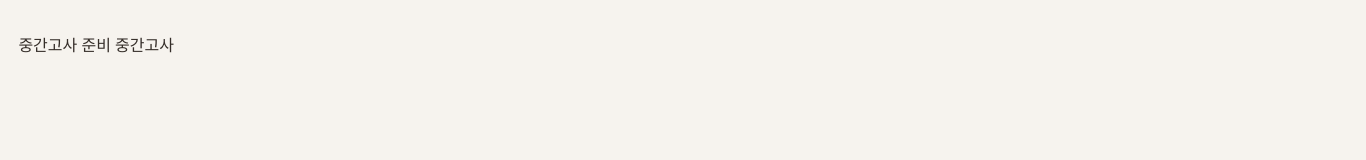
Test: secure document preview › finds and moves between matches in document text
The image size is (1366, 160).
Press f
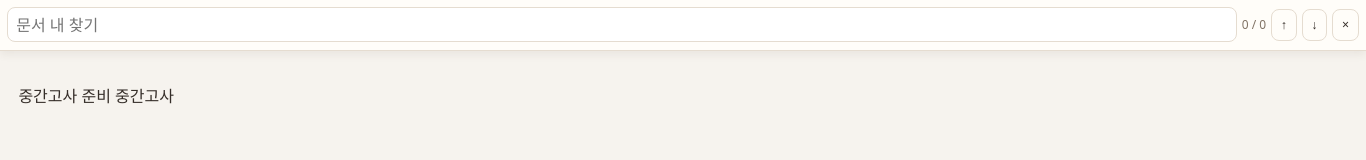
Type "중간고사" into the search field labelled "문서 내 찾기" at x=622, y=25, box [7,7,1237,42]
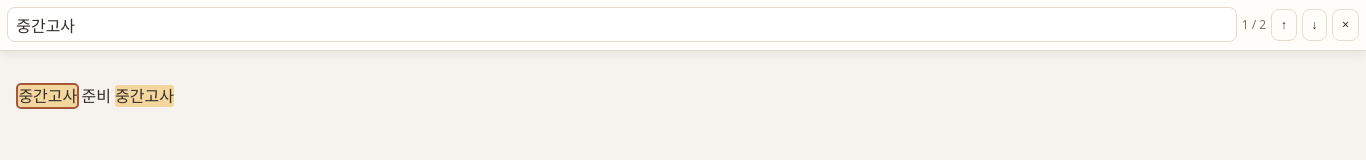
Expected: the text "1 / 2" is shown, [1242,16,1266,33]
Click the button named "다음 일치" at x=1314, y=25, box [1302,9,1327,41]
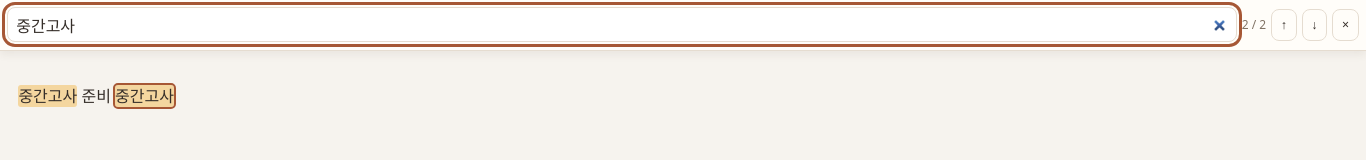
Expected: the text "2 / 2" is shown, [1242,16,1266,33]
